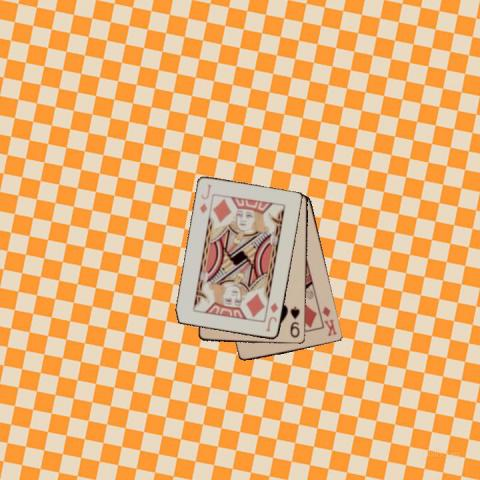9s: (288, 303, 301, 339)
Jd: (196, 181, 212, 215), (263, 300, 279, 333)
Kd: (319, 304, 339, 338)
